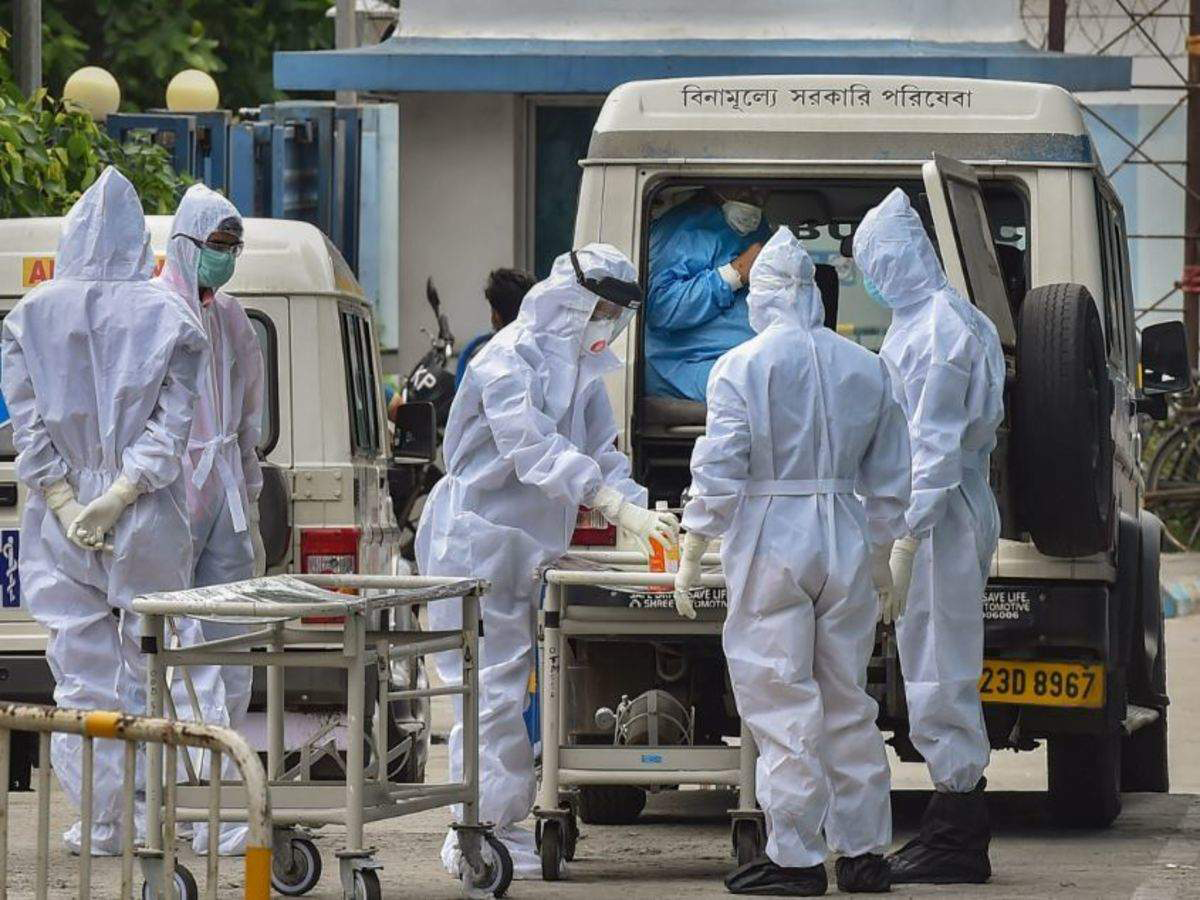Coverall: (710, 304, 884, 827), (15, 238, 188, 687), (869, 204, 997, 783), (432, 327, 601, 616)
Gloves: (43, 476, 147, 559), (591, 473, 683, 556), (669, 533, 714, 622), (878, 533, 922, 624)
with_mask: (197, 245, 238, 293), (725, 189, 763, 235)
